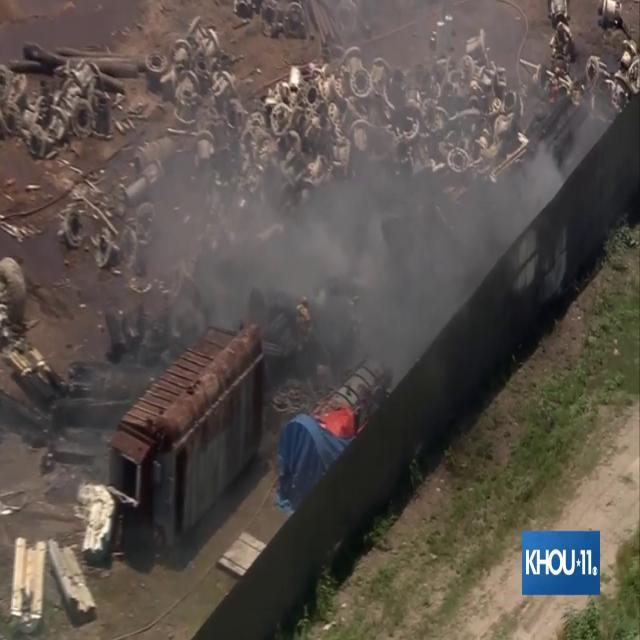Smoke: (134, 128, 562, 354)
